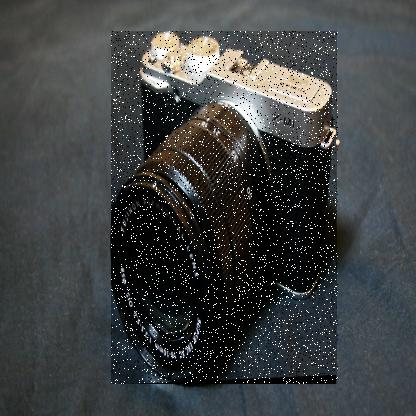Camera: (113, 32, 341, 386)
